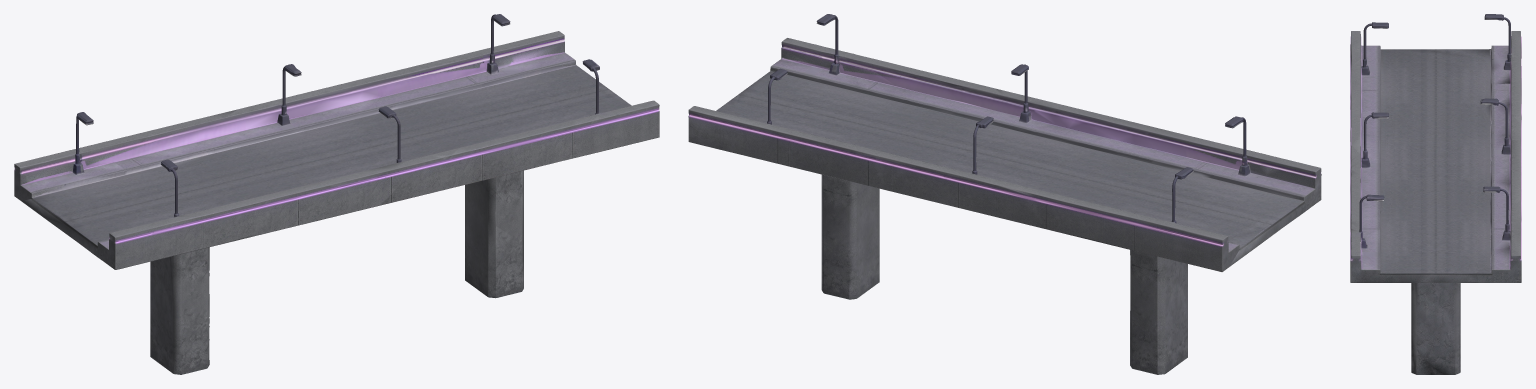
The model's file is neon-overpass.glb.
3 views of the same model, side by side, from view 1: azimuth 30°, elevation 25°; view 2: azimuth 150°, elevation 25°; view 3: azimuth 270°, elevation 25° (orthographic). The views are drawn at different scales.
Parts seen in each view (by area): view 1: MeshyFit; view 2: MeshyFit; view 3: MeshyFit.
Part boxes in pixels (bbox=[...]): MeshyFit: bbox=[14, 14, 659, 374]; MeshyFit: bbox=[688, 14, 1321, 374]; MeshyFit: bbox=[1350, 14, 1521, 374].
Size of the model in its own units: 21.87 by 9 by 7.05.
1 material, 1 textured.
